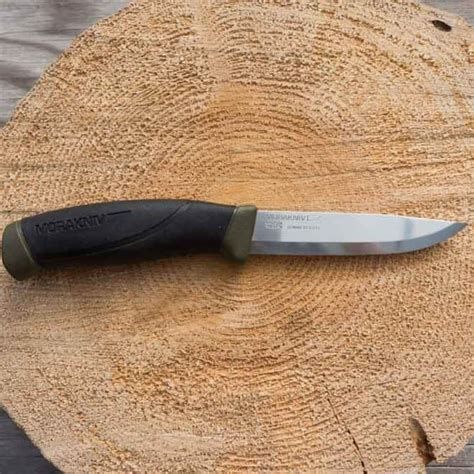knife: (4, 195, 469, 282)
